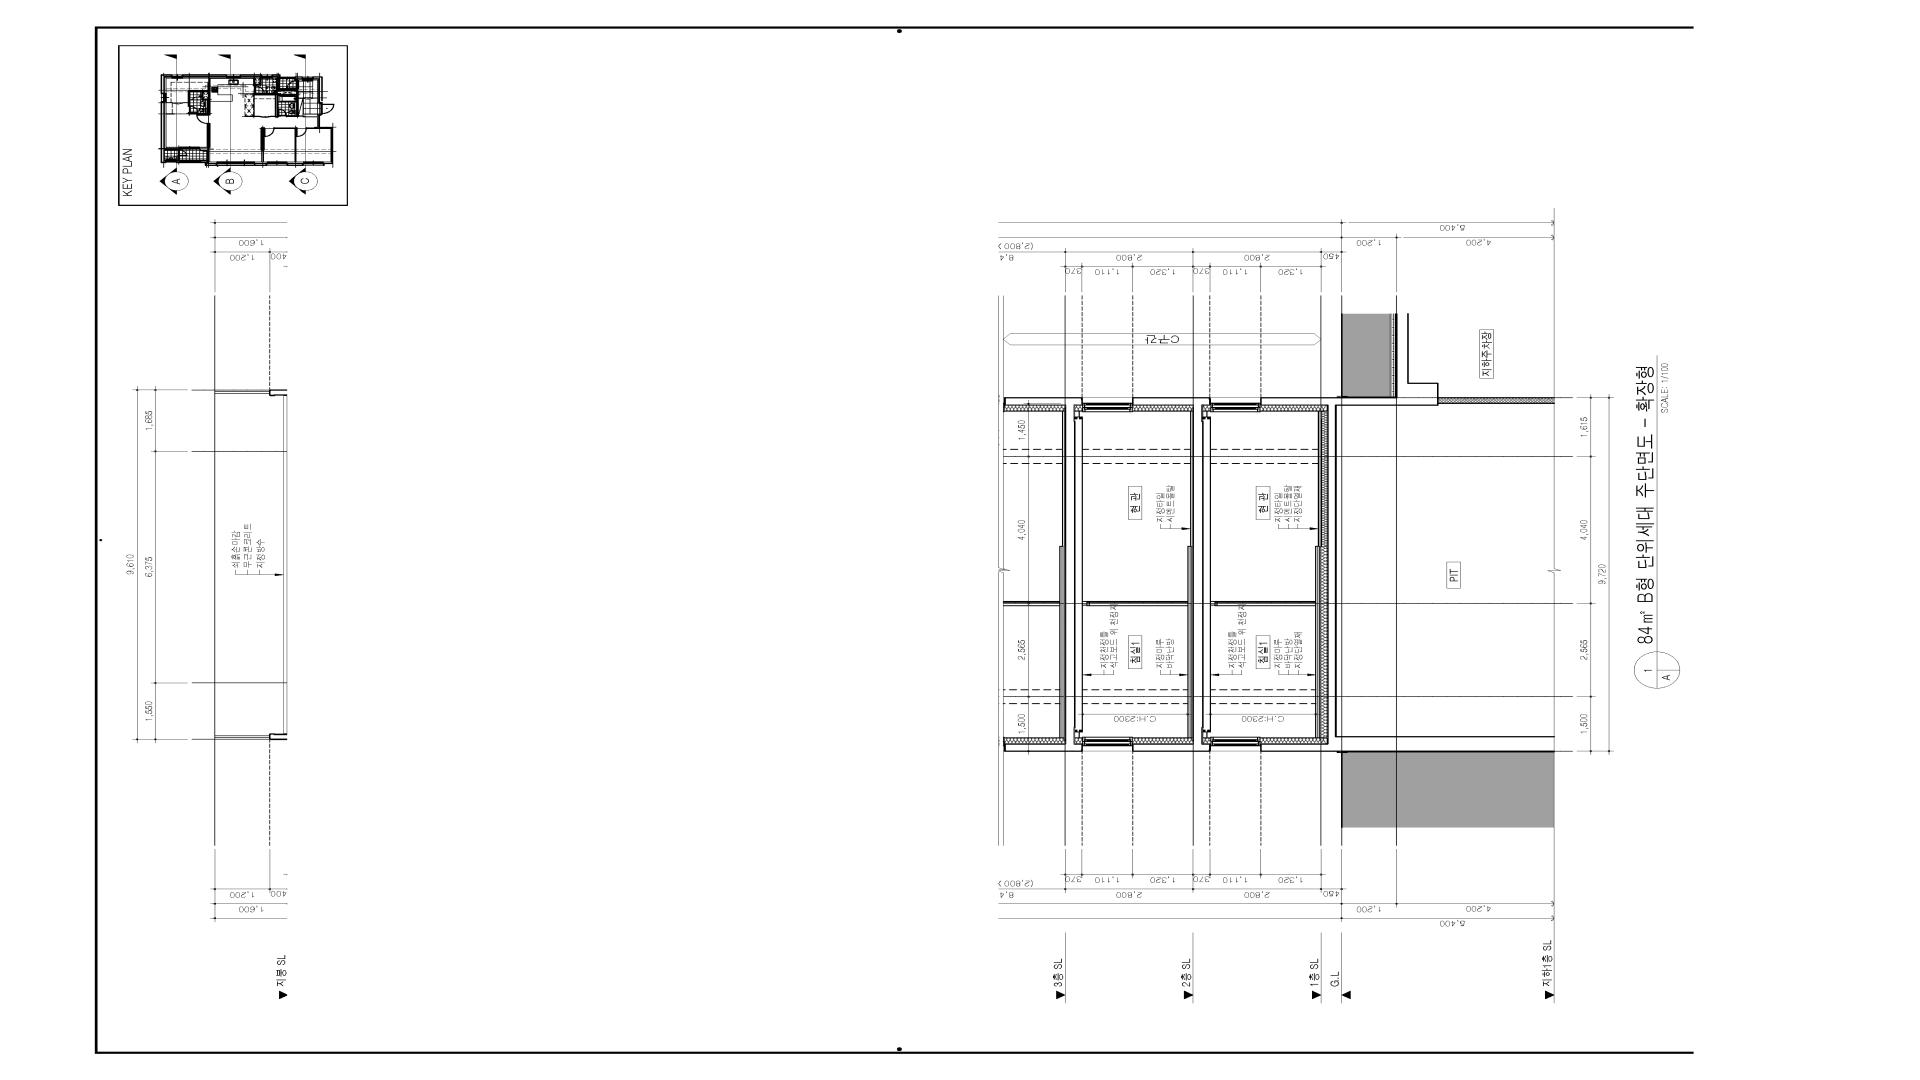wall: (1261, 314, 1555, 753), (1004, 397, 1083, 752), (1133, 397, 1211, 752), (1439, 397, 1555, 404), (1081, 601, 1188, 607), (1209, 601, 1316, 607), (1004, 601, 1060, 607)
window: (1083, 397, 1133, 413), (1211, 397, 1261, 413), (1083, 737, 1133, 752), (1211, 737, 1261, 752)
